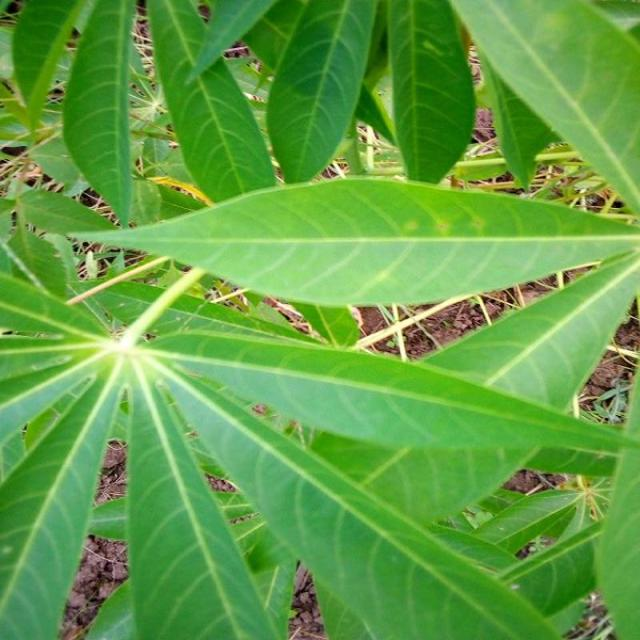cassava leaf: (0, 1, 638, 638), (59, 173, 638, 308)
